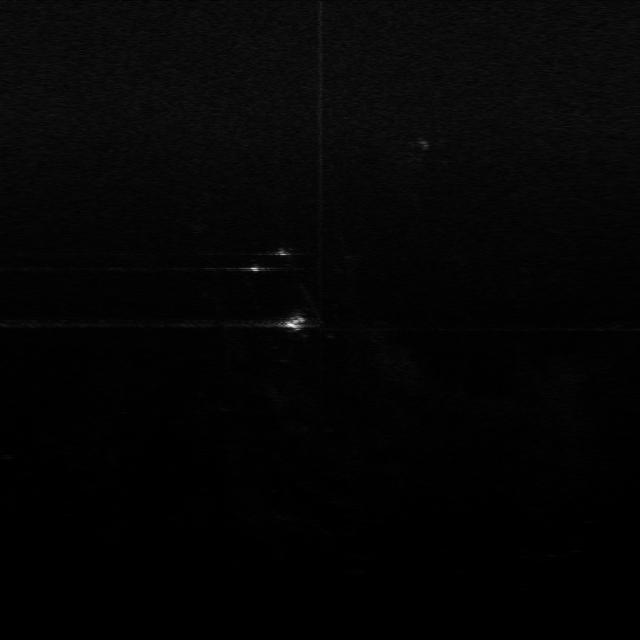rov: (274, 313, 316, 333)
